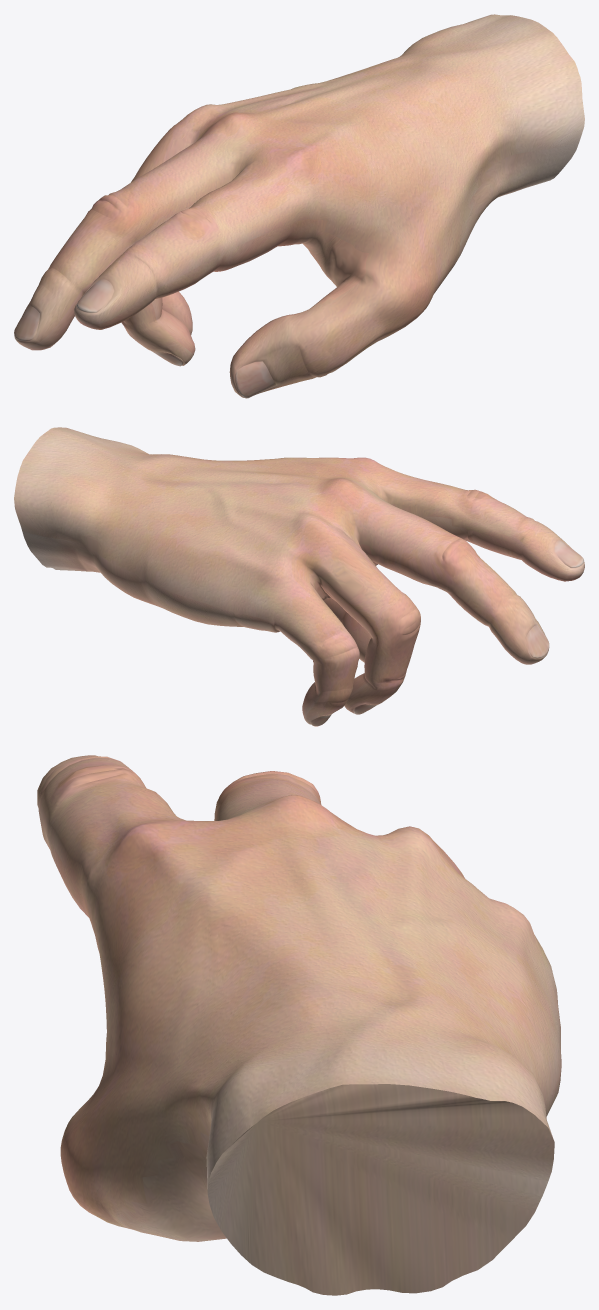
The model's file is hand_38.obj.
3 views of the same model, one above another, from view 1: azimuth 30°, elevation 25°; view 2: azimuth 150°, elevation 25°; view 3: azimuth 270°, elevation 25° (orthographic). The views are drawn at different scales.
Visible parts, largest first — view 1: Figure_2; view 2: Figure_2; view 3: Figure_2.
Boxes of the visible parts, x1,y1,x2,y2 form: Figure_2: [14, 14, 584, 398]; Figure_2: [14, 427, 584, 726]; Figure_2: [37, 755, 561, 1295].
Bounding box in the file's own units: 0.8545 × 0.3699 × 0.4092.
2 materials, 2 textured.
